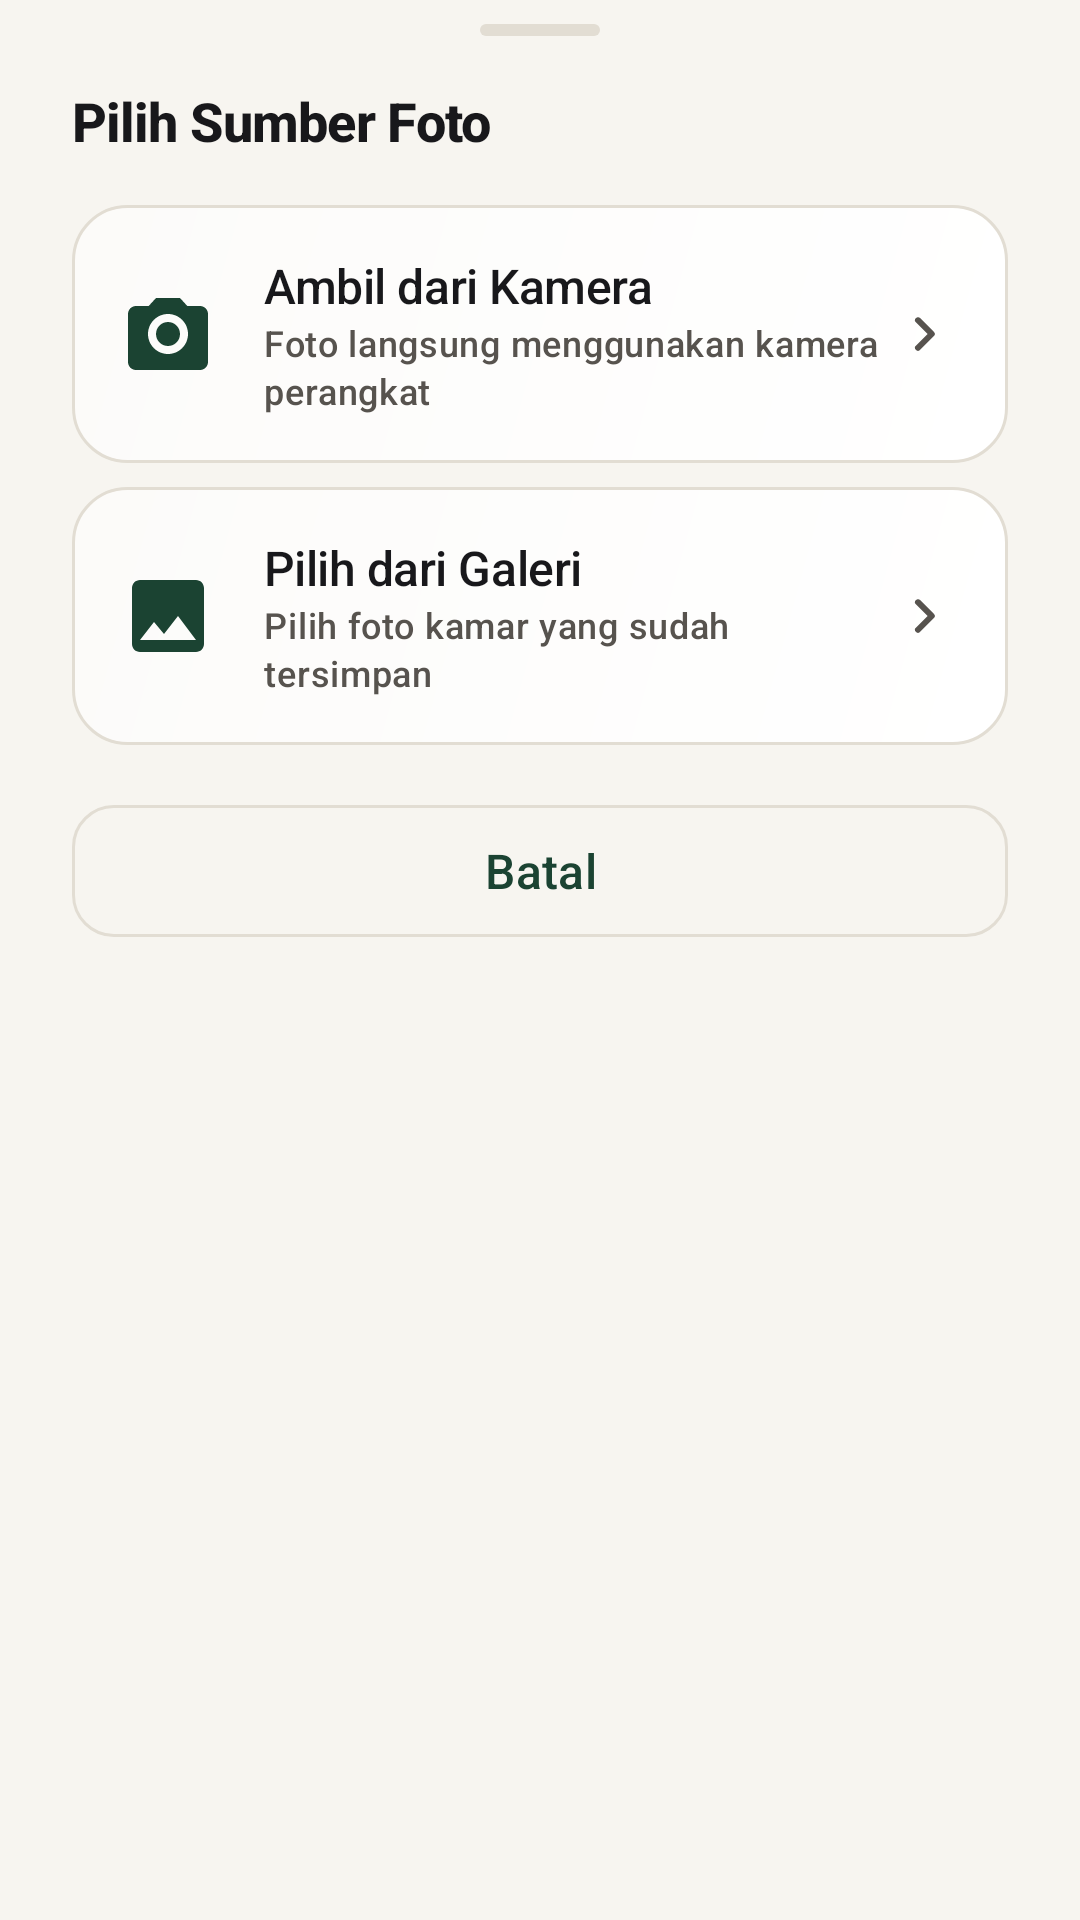

Screen size 1080 × 1920. Icon name, then its center in pixels as (x,y):
Ikon Galeri: (168,616)
Ikon Kamera: (168,334)
Lihat Detail: (925,334), (925,616)
